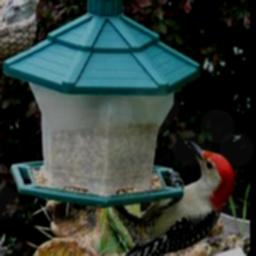Woodpecker: (101, 137, 235, 256)
